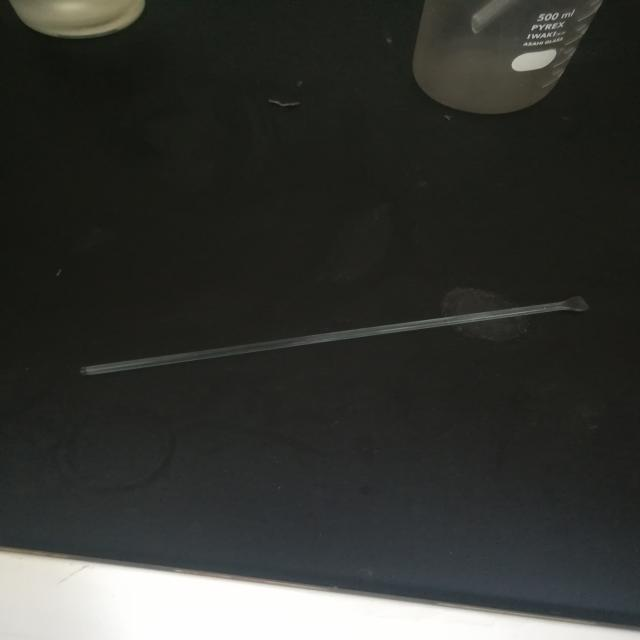Glass_Rod: (53, 271, 607, 412)
